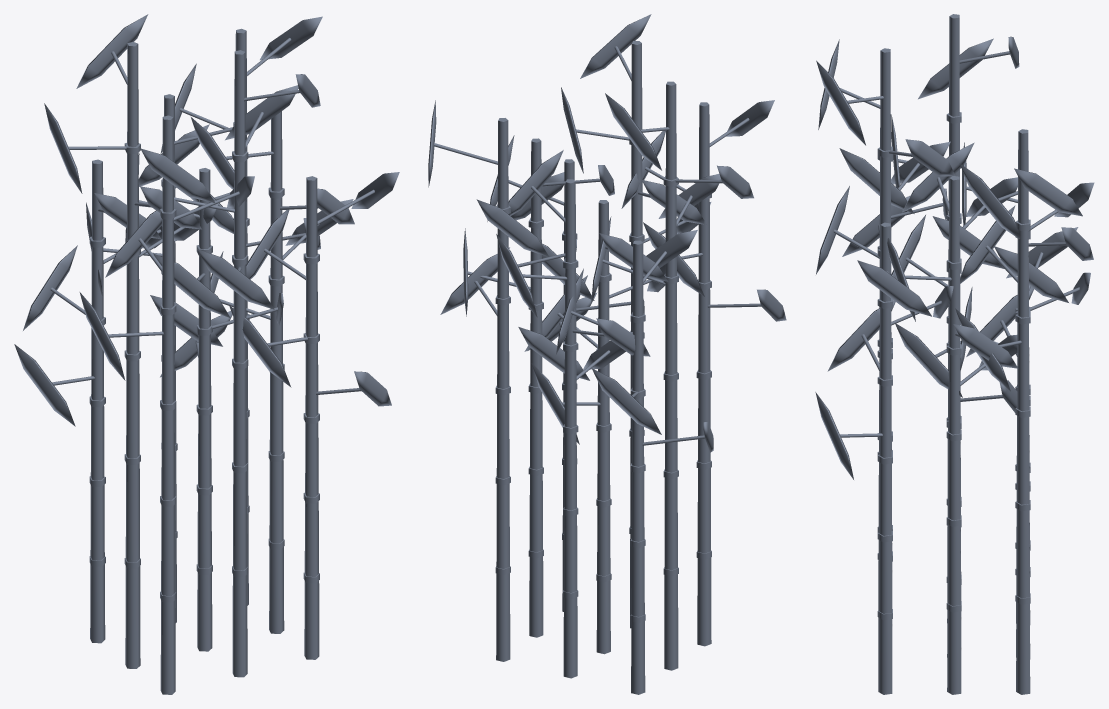
The model's file is garden-bamboo-dense-lite.glb.
3 renders of one model, left to right at view 1: azimuth 30°, elevation 25°; view 2: azimuth 150°, elevation 25°; view 3: azimuth 270°, elevation 25°, orthographic. The views are drawn at different scales.
Visible parts, largest first — view 1: garden-bamboo-dense; view 2: garden-bamboo-dense; view 3: garden-bamboo-dense.
Part boxes in pixels (left/top/right/bottom): garden-bamboo-dense: left=14, top=14, right=399, bottom=694; garden-bamboo-dense: left=428, top=14, right=786, bottom=694; garden-bamboo-dense: left=815, top=14, right=1094, bottom=694.
Bounding box in the file's own units: 1.2 × 2.4 × 1.
